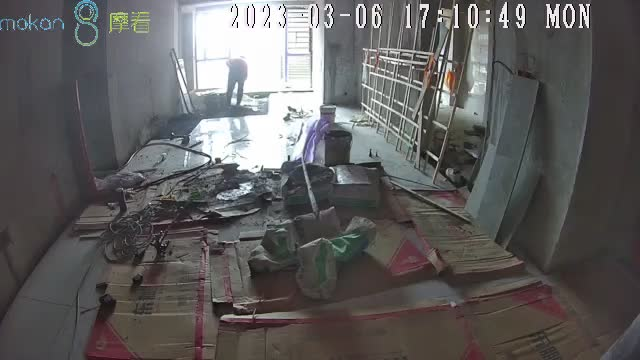people: (223, 52, 248, 108)
window: (193, 7, 311, 87)
